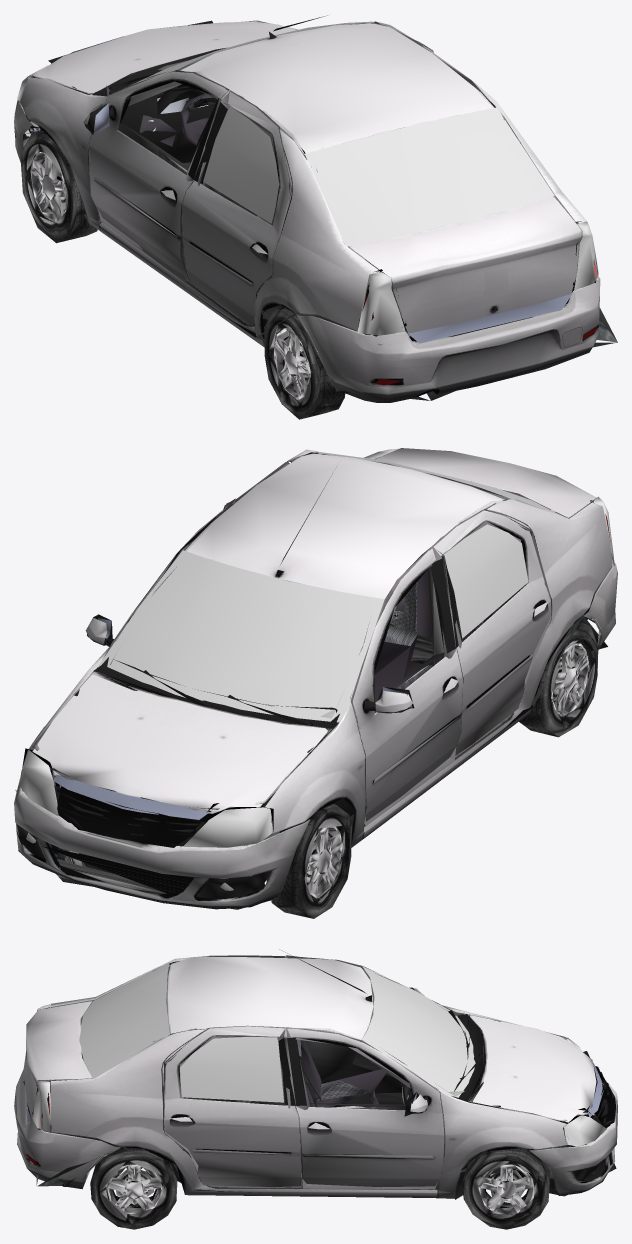
File: dacor_logen_lod2.glb
3 renders of one model, top to bottom at view 1: azimuth 30°, elevation 25°; view 2: azimuth 150°, elevation 25°; view 3: azimuth 270°, elevation 25°, orthographic. The views are drawn at different scales.
Visible parts, largest first — view 1: Body_paint, Body_glass, Body_orig_Misc1Mtl, Wheel_RL_orig_Wheelrb1Mtl, Wheel_FL_orig_Wheelrb1Mtl, Body_orig_Bottom1Mtl; view 2: Body_paint, Body_glass, Body_orig_Misc1Mtl, Wheel_FL_orig_Wheelrb1Mtl, Body_orig_Interior1Mtl, Wheel_RL_orig_Wheelrb1Mtl, Body_orig_Bottom1Mtl; view 3: Body_paint, Body_glass, Body_orig_Misc1Mtl, Wheel_FR_orig_Wheelrb1Mtl, Wheel_RR_orig_Wheelrb1Mtl, Body_orig_Interior1Mtl, Body_orig_Bottom1Mtl.
Boxes of the visible parts, left/top/right/bottom form: Body_paint: left=14, top=20, right=600, bottom=402; Body_glass: left=17, top=20, right=598, bottom=335; Body_orig_Misc1Mtl: left=14, top=15, right=596, bottom=343; Wheel_RL_orig_Wheelrb1Mtl: left=264, top=307, right=345, bottom=419; Wheel_FL_orig_Wheelrb1Mtl: left=20, top=130, right=98, bottom=243; Body_orig_Bottom1Mtl: left=43, top=97, right=617, bottom=400; Body_paint: left=14, top=448, right=617, bottom=909; Body_glass: left=19, top=448, right=614, bottom=890; Body_orig_Misc1Mtl: left=16, top=452, right=593, bottom=899; Wheel_FL_orig_Wheelrb1Mtl: left=266, top=804, right=351, bottom=918; Body_orig_Interior1Mtl: left=42, top=555, right=501, bottom=893; Wheel_RL_orig_Wheelrb1Mtl: left=519, top=622, right=598, bottom=737; Body_orig_Bottom1Mtl: left=15, top=584, right=607, bottom=909; Body_paint: left=14, top=955, right=617, bottom=1198; Body_glass: left=32, top=962, right=606, bottom=1173; Body_orig_Misc1Mtl: left=23, top=949, right=615, bottom=1189; Wheel_FR_orig_Wheelrb1Mtl: left=462, top=1148, right=549, bottom=1229; Wheel_RR_orig_Wheelrb1Mtl: left=90, top=1147, right=177, bottom=1229; Body_orig_Interior1Mtl: left=236, top=1039, right=386, bottom=1107; Body_orig_Bottom1Mtl: left=36, top=1104, right=616, bottom=1199.
Size of the model in its own units: 1.99 by 1.82 by 4.28.
9 materials, 8 textured.
